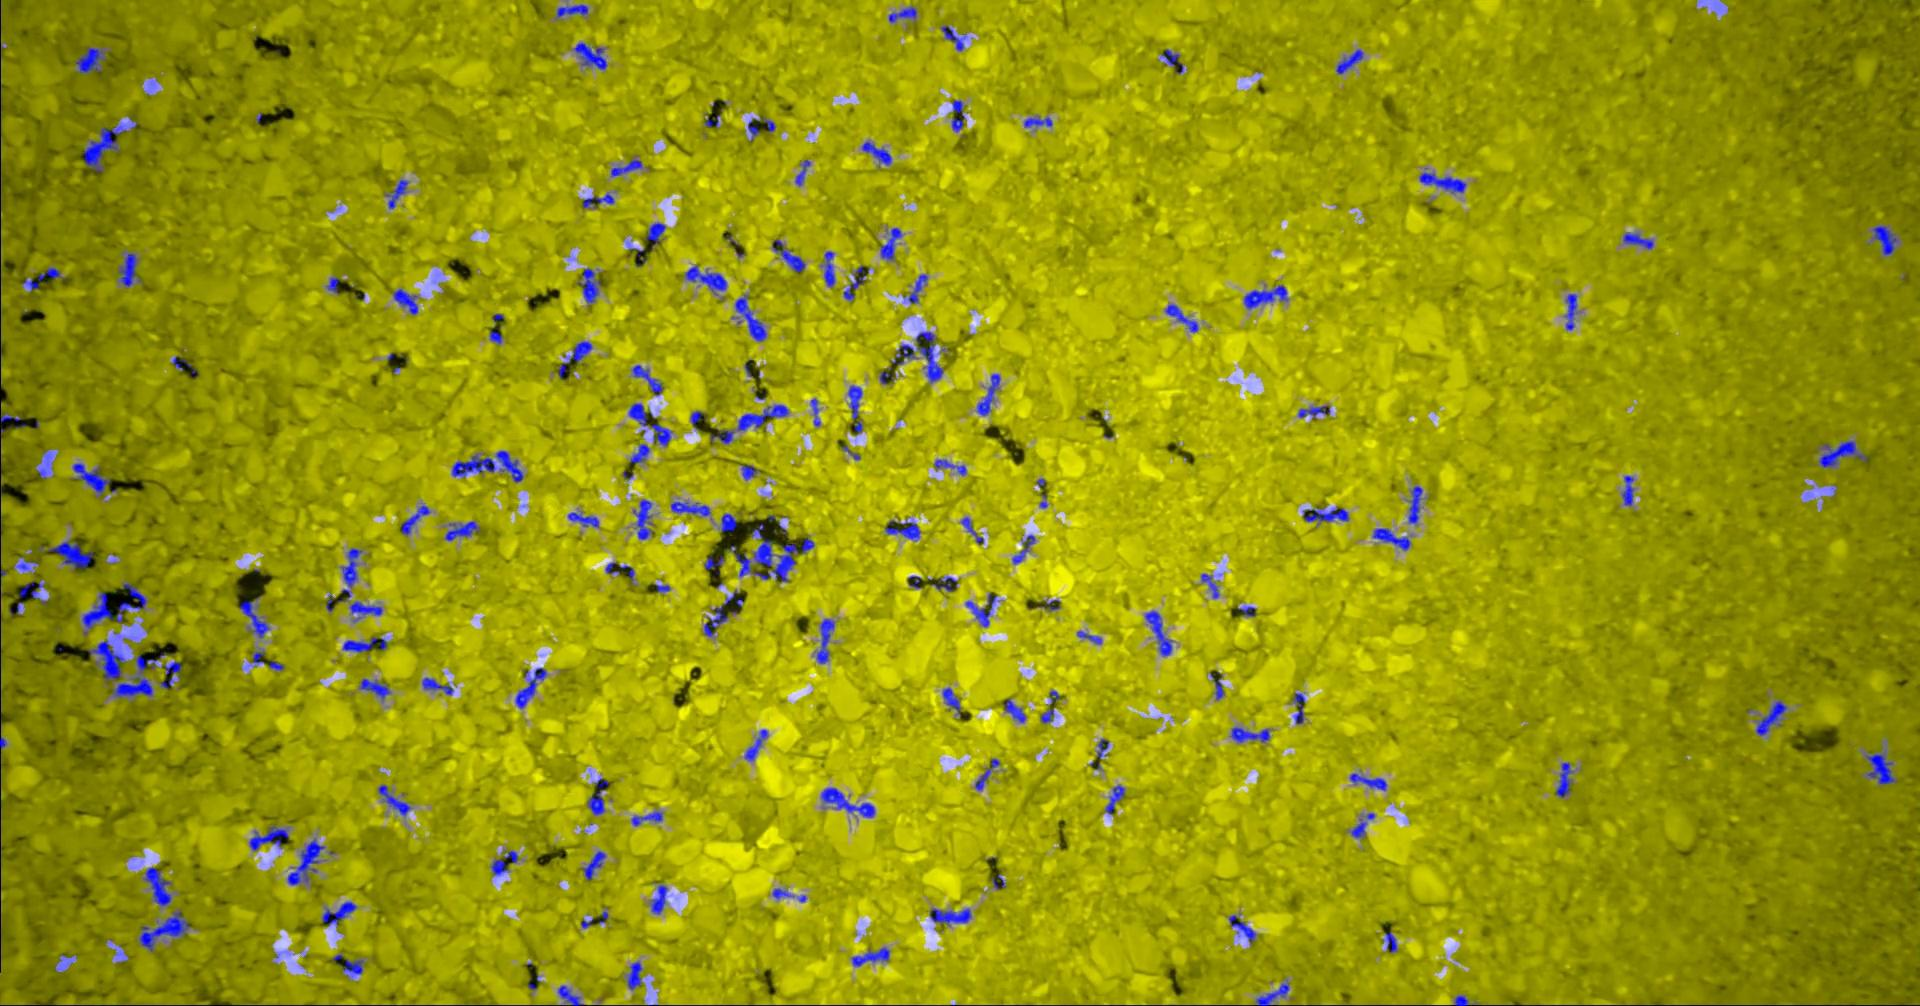ant: (726, 537, 814, 580), (81, 582, 146, 633), (890, 332, 942, 382), (138, 911, 189, 951), (110, 654, 156, 697), (83, 124, 124, 171), (703, 589, 743, 636), (629, 403, 670, 445), (287, 838, 324, 884), (820, 788, 874, 817), (734, 293, 766, 340), (88, 640, 123, 680), (737, 404, 787, 431), (1818, 439, 1867, 467), (337, 547, 361, 601), (47, 540, 93, 568), (557, 340, 590, 379), (516, 667, 546, 708), (1144, 610, 1171, 655), (8, 580, 44, 614), (1418, 166, 1465, 192), (72, 464, 110, 494), (1755, 700, 1787, 735), (239, 600, 269, 636), (684, 265, 726, 291), (772, 239, 804, 272), (965, 592, 996, 626), (143, 868, 171, 904), (1243, 285, 1288, 307), (451, 453, 495, 476), (378, 784, 410, 815), (248, 826, 288, 850), (977, 373, 999, 415), (750, 523, 772, 567), (1164, 304, 1197, 332), (1865, 752, 1895, 782), (632, 365, 662, 394), (574, 42, 606, 69), (495, 450, 522, 481), (22, 267, 58, 290), (1302, 507, 1349, 525), (321, 901, 356, 925), (1371, 528, 1410, 550), (400, 506, 429, 533), (974, 758, 999, 790), (817, 619, 834, 663), (577, 268, 599, 302), (75, 47, 105, 72), (1872, 225, 1897, 255), (587, 779, 608, 814), (1255, 982, 1288, 1005), (632, 499, 651, 539), (1228, 915, 1255, 942), (847, 385, 862, 433), (851, 948, 889, 967), (843, 265, 865, 298), (903, 274, 927, 304), (861, 141, 891, 164), (744, 729, 767, 760), (582, 850, 604, 880), (880, 227, 902, 259), (342, 636, 386, 652), (747, 116, 775, 140), (118, 253, 138, 286), (385, 179, 408, 208), (1012, 533, 1034, 564), (885, 520, 919, 539), (491, 850, 517, 875), (1335, 50, 1363, 72), (159, 661, 182, 688), (444, 521, 477, 540), (930, 908, 970, 923), (940, 25, 965, 50), (392, 288, 417, 314), (960, 517, 983, 544), (1349, 774, 1385, 790), (1040, 690, 1059, 721), (359, 678, 389, 699), (171, 354, 197, 377), (1230, 727, 1269, 742), (610, 159, 641, 177), (670, 500, 710, 514), (1408, 485, 1422, 523), (604, 561, 632, 580), (1105, 785, 1124, 813), (1161, 50, 1183, 72), (1556, 762, 1571, 796), (557, 984, 583, 1005), (935, 459, 965, 475), (422, 677, 452, 694), (1003, 699, 1025, 721), (580, 911, 607, 929), (645, 222, 665, 245), (1623, 232, 1653, 248), (927, 575, 957, 591), (631, 810, 662, 826), (349, 601, 382, 615), (1200, 573, 1218, 598), (942, 687, 960, 713), (582, 193, 613, 207), (888, 6, 916, 22), (568, 512, 598, 526), (0, 412, 25, 428), (651, 884, 665, 913), (1564, 293, 1576, 329), (823, 251, 834, 286), (627, 962, 641, 989), (556, 4, 587, 17), (951, 100, 964, 131), (703, 555, 723, 575), (1297, 405, 1330, 417), (795, 159, 809, 185), (1209, 672, 1223, 699), (629, 445, 649, 462), (342, 959, 363, 976), (1622, 475, 1633, 506), (1293, 694, 1304, 723), (1076, 630, 1101, 643), (710, 429, 733, 443), (720, 513, 737, 532), (1382, 931, 1397, 951), (879, 366, 895, 384), (1023, 117, 1051, 127), (810, 398, 820, 426), (742, 464, 759, 479), (1096, 738, 1109, 758), (1350, 822, 1366, 837), (990, 873, 1004, 888), (1039, 600, 1059, 610), (772, 888, 792, 898), (690, 410, 703, 424), (703, 114, 719, 127), (1237, 606, 1255, 616), (326, 277, 338, 292), (489, 330, 502, 343), (251, 652, 264, 663), (1454, 995, 1467, 1005)
